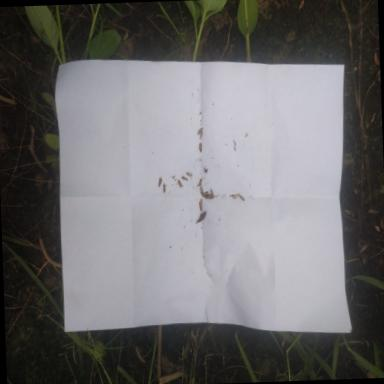pbw: (162, 183, 168, 192), (158, 176, 162, 187), (197, 127, 203, 134), (202, 190, 209, 196), (210, 187, 214, 197), (198, 176, 202, 186), (199, 198, 202, 210), (199, 141, 202, 152), (178, 179, 182, 187), (199, 130, 202, 140), (181, 176, 188, 180), (186, 172, 193, 176)
